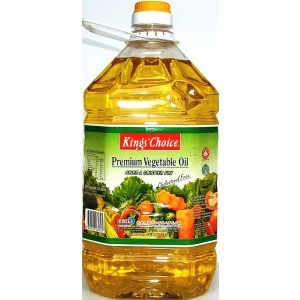vegetable oil_brain food: (89, 86, 216, 289)
